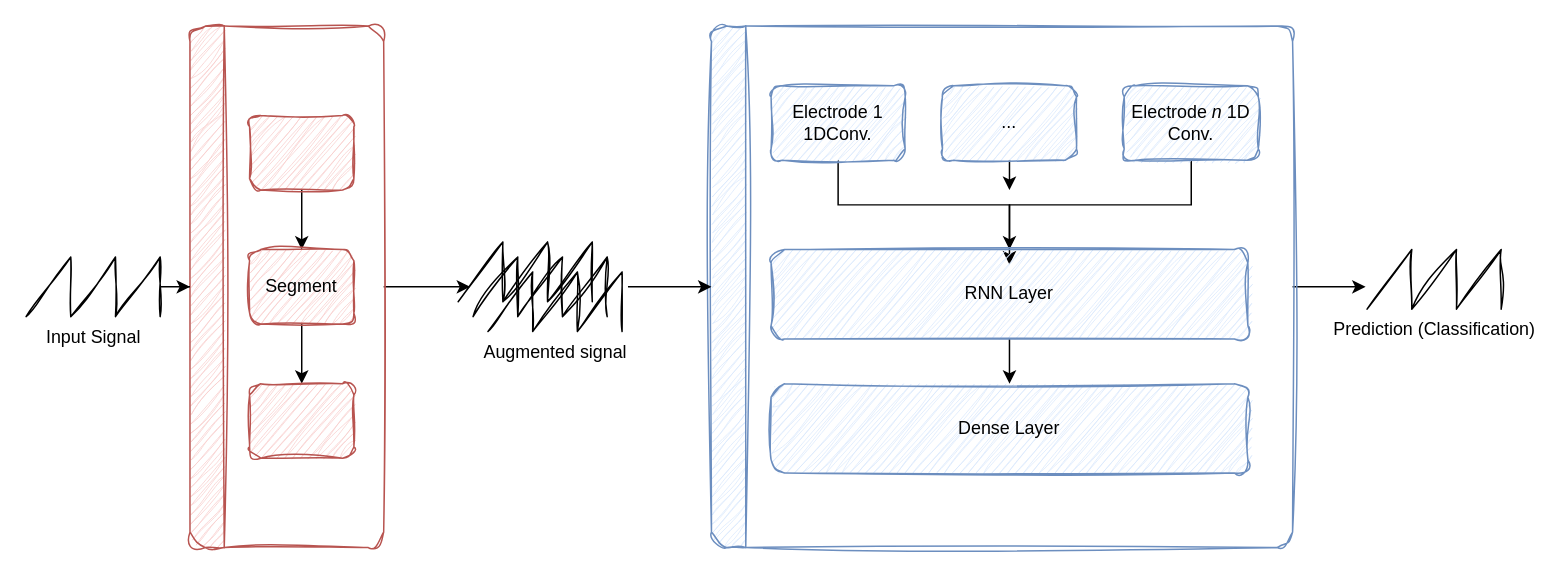
This 1560x574 diagram has some shape labels left out. The shapes that lost their labels are listed below. From the top down, each one's box as (x1, y1, x2, y2) in pixels, then its label:
(248, 114, 354, 190): Normalize
(188, 25, 384, 548): Preprocessor
(710, 25, 1293, 548): Model
(248, 382, 354, 458): Augment
